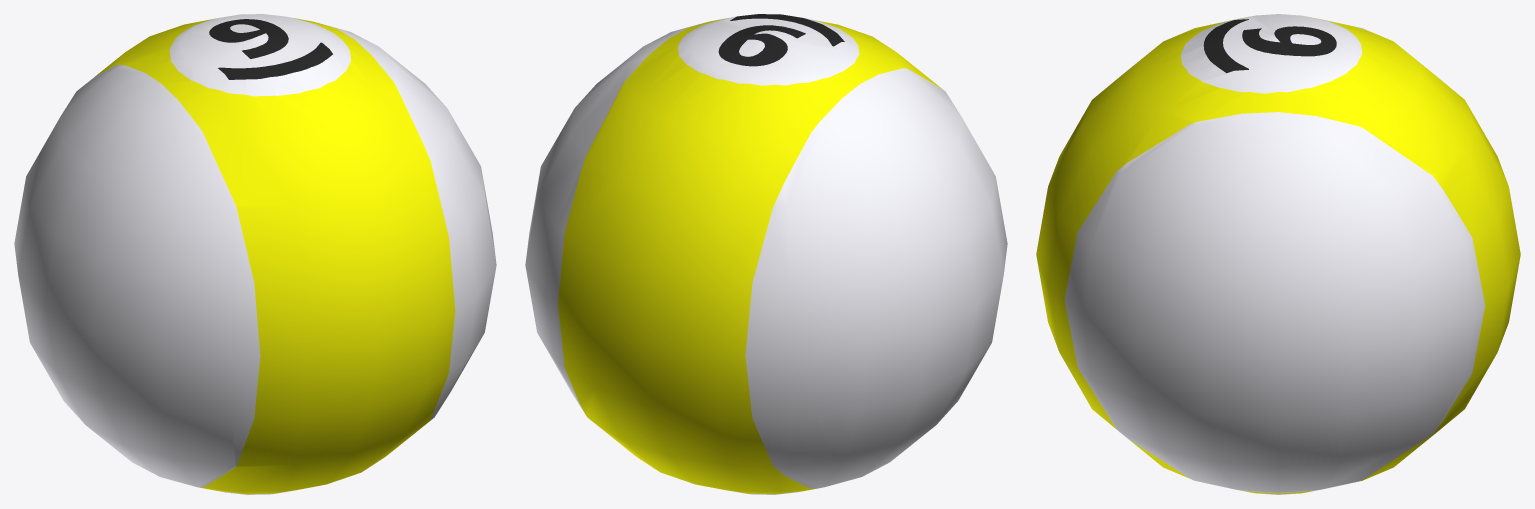
The model's file is 9ball.dae.
The picture shows the model from 3 angles, left to right: view 1: azimuth 30°, elevation 25°; view 2: azimuth 150°, elevation 25°; view 3: azimuth 270°, elevation 25°; orthographic projection.
Parts seen in each view (by area): view 1: Billiard_Ball__9_Yellow_Striped (×6); view 2: Billiard_Ball__9_Yellow_Striped (×6); view 3: Billiard_Ball__9_Yellow_Striped (×5).
Boxes of the visible parts, x1,y1,x2,y2 form: Billiard_Ball__9_Yellow_Striped (×6): (14, 14, 496, 494); Billiard_Ball__9_Yellow_Striped (×6): (525, 14, 1007, 494); Billiard_Ball__9_Yellow_Striped (×5): (1036, 14, 1520, 494).
Size of the model in its own units: 1.58 by 1.58 by 1.58.
